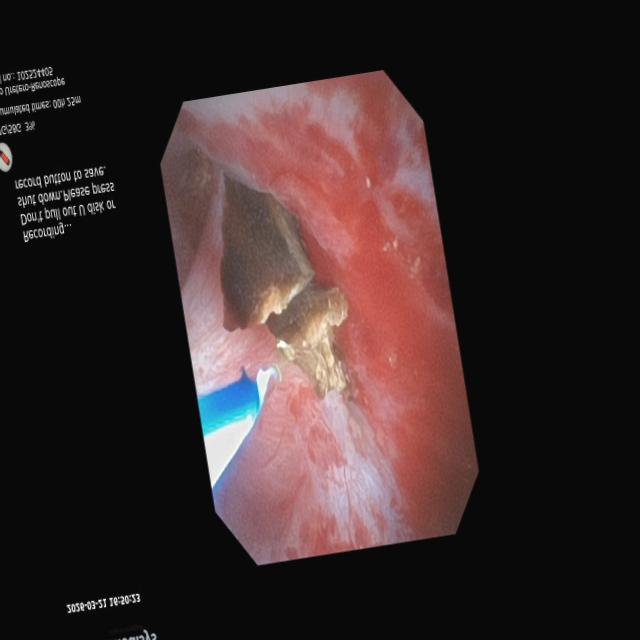laser-fibre: (256, 366, 281, 405)
stone-new: (220, 175, 314, 332), (266, 284, 348, 399)
